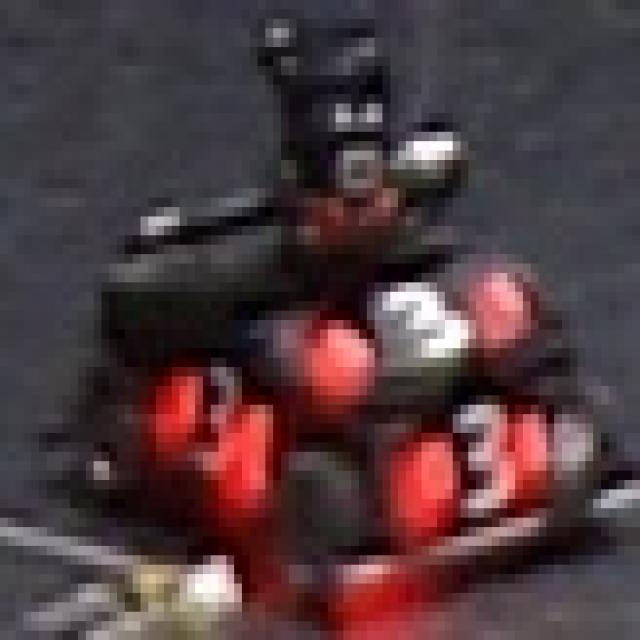R3: (304, 245, 531, 395), (390, 405, 554, 546), (164, 348, 265, 480)
